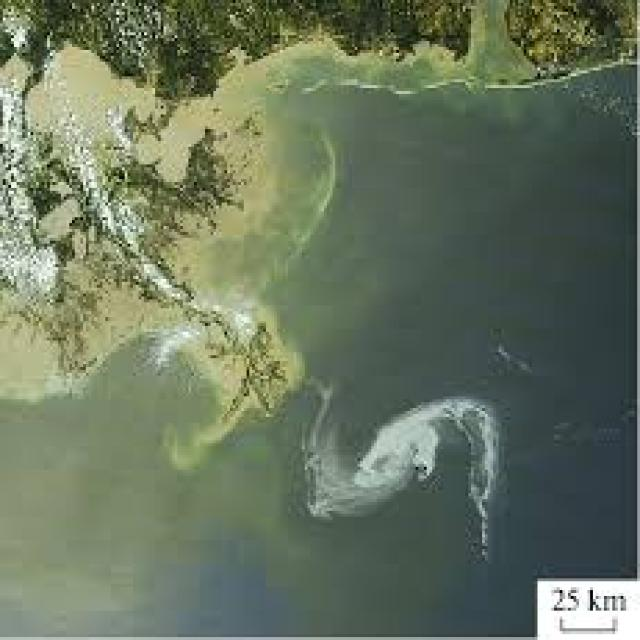algal: (20, 438, 218, 572)
oil spill: (305, 394, 501, 554)
